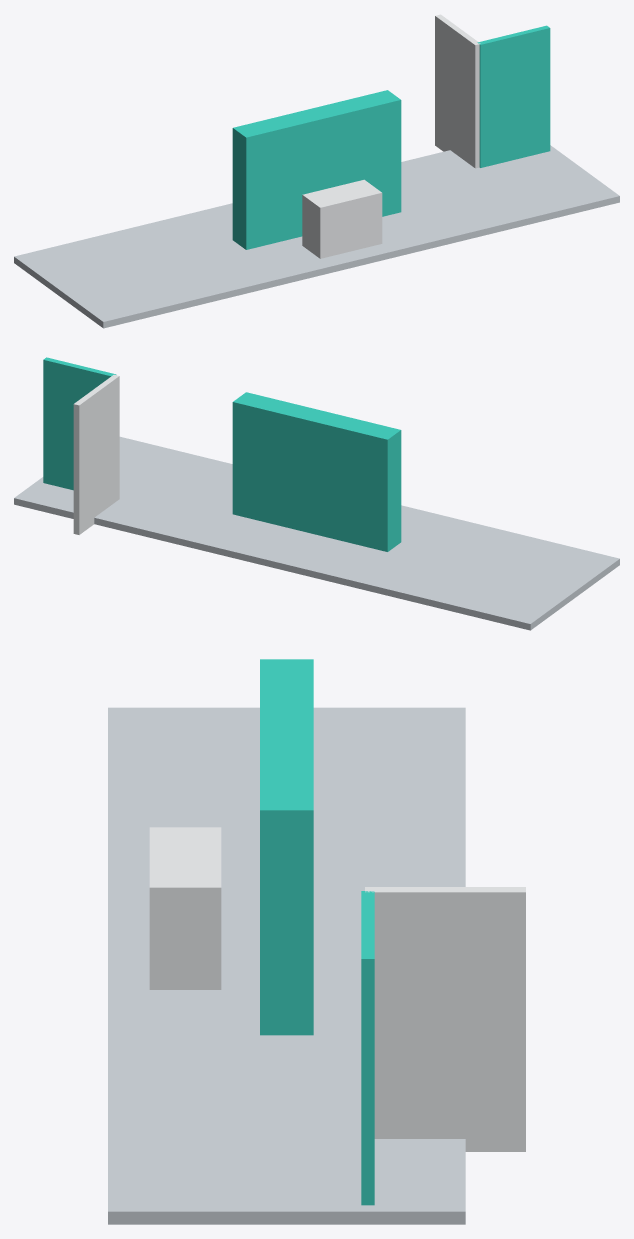
3 views of the same model, one above another, from view 1: azimuth 30°, elevation 25°; view 2: azimuth 150°, elevation 25°; view 3: azimuth 270°, elevation 25° (orthographic). The views are drawn at different scales.
Visible parts, largest first — view 1: Exhibition Booth Concept; view 2: Exhibition Booth Concept; view 3: Exhibition Booth Concept.
Boxes of the visible parts, box(x1,y1,x2,y2) form: Exhibition Booth Concept: box(14, 14, 619, 328); Exhibition Booth Concept: box(14, 357, 619, 630); Exhibition Booth Concept: box(108, 659, 525, 1224).
Size of the model in its own units: 10 by 2.4 by 3.51.
